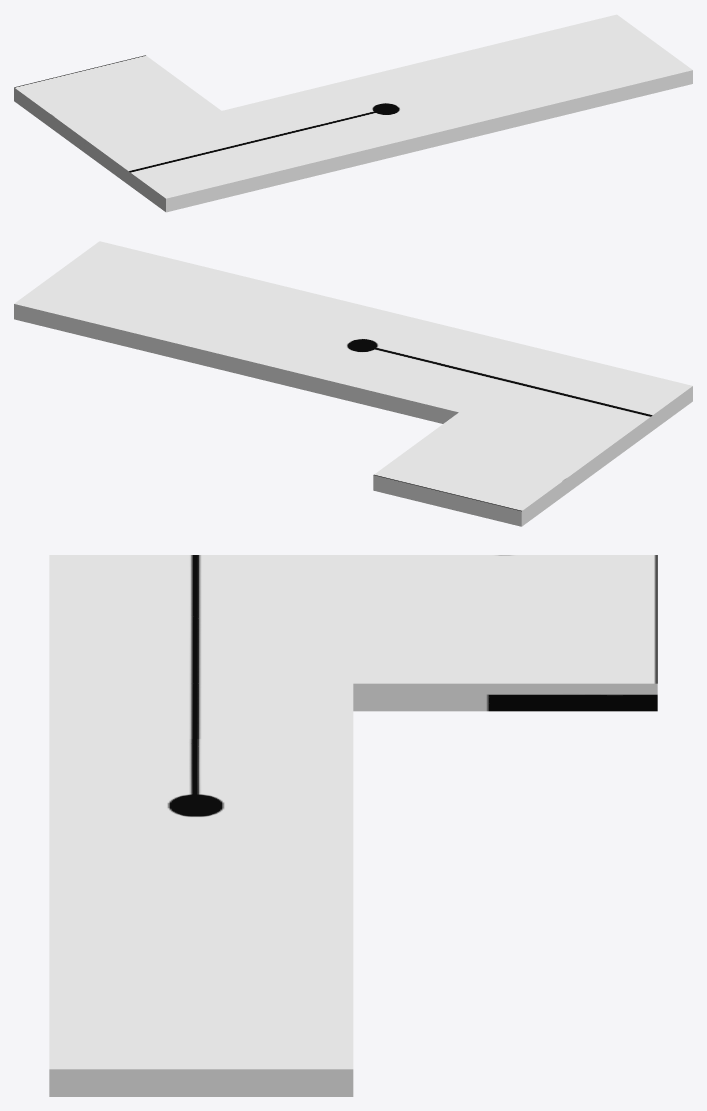
3 views of the same model, one above another, from view 1: azimuth 30°, elevation 25°; view 2: azimuth 150°, elevation 25°; view 3: azimuth 270°, elevation 25° (orthographic). The views are drawn at different scales.
Visible parts, largest first — view 1: pCube1; view 2: pCube1; view 3: pCube1.
Part boxes in pixels (x1,y1,x2,y2): pCube1: (14,14,692,212); pCube1: (14,241,692,526); pCube1: (49,555,657,1096).
Bounding box in the file's own units: 4 × 0.1 × 2.
